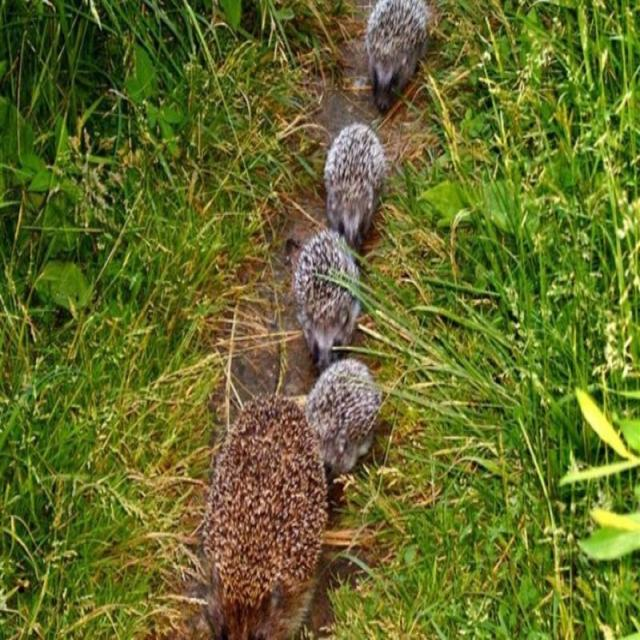Hedgehog: (205, 396, 321, 638), (289, 234, 366, 356), (321, 118, 387, 240), (314, 353, 381, 466), (366, 0, 431, 114)
